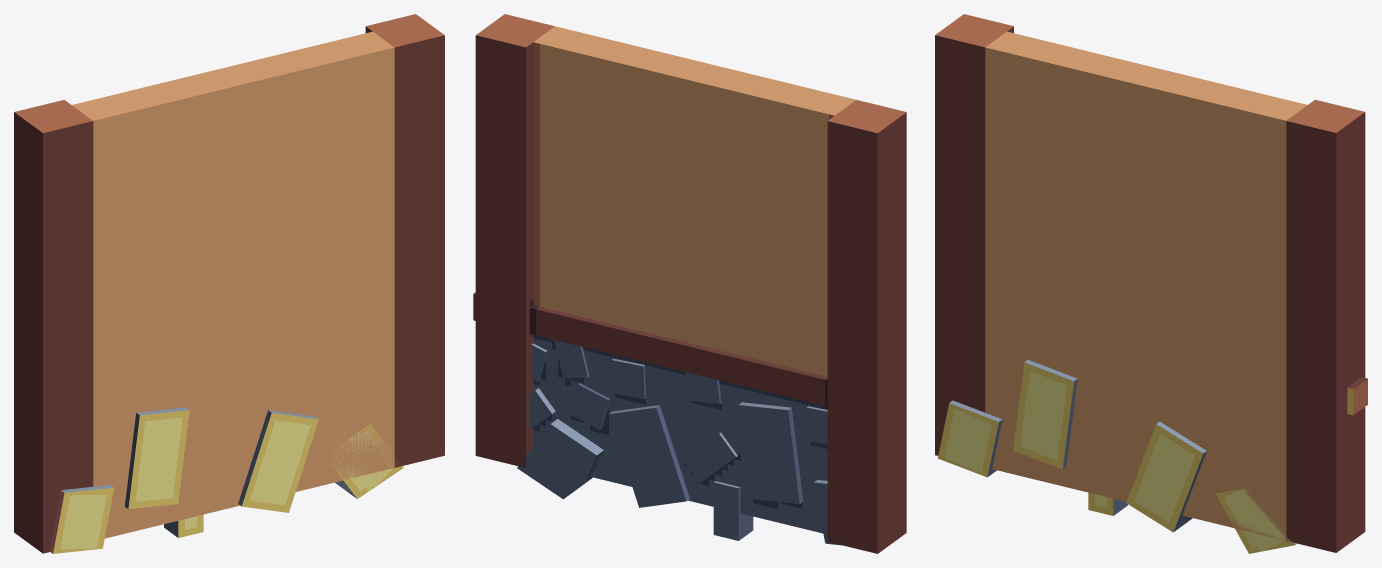
Rendered from Wall.gltf.
3 views of the same model, side by side, from view 1: azimuth 30°, elevation 25°; view 2: azimuth 150°, elevation 25°; view 3: azimuth 330°, elevation 25° (orthographic).
Parts seen in each view (by area): view 1: cube; view 2: cube; view 3: cube.
Boxes of the visible parts, <box> form: cube: <box>14,14,444,553</box>; cube: <box>473,14,906,553</box>; cube: <box>935,14,1367,553</box>.
Size of the model in its own units: 4.06 by 4.25 by 0.5625.
1 material, 1 textured.
